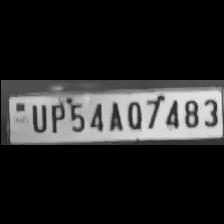3: (200, 95, 220, 127)
4: (161, 95, 181, 129), (86, 97, 104, 131)
5: (65, 97, 85, 132)
7: (142, 94, 160, 130)
8: (180, 96, 200, 128)
A: (104, 97, 122, 130)
P: (46, 99, 64, 133)
Q: (122, 96, 142, 130)
U: (26, 100, 48, 132)
